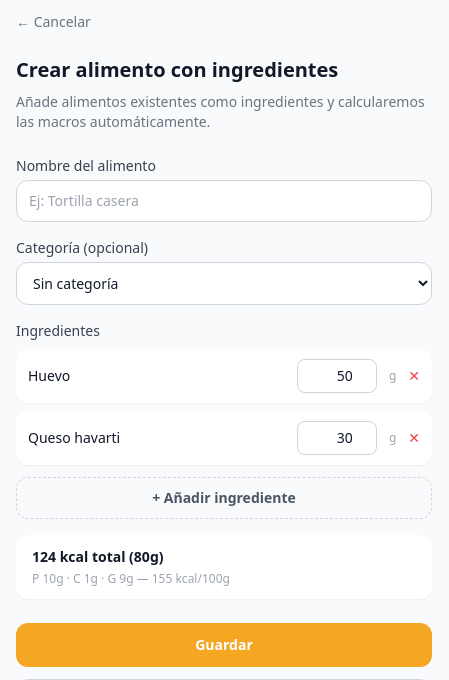
Test: IngredientsBuilderRoute › removing an ingredient recomputes the sum
Click the button labelled "✕" in the row of "Huevo" at (414, 376), box [408, 366, 420, 386]
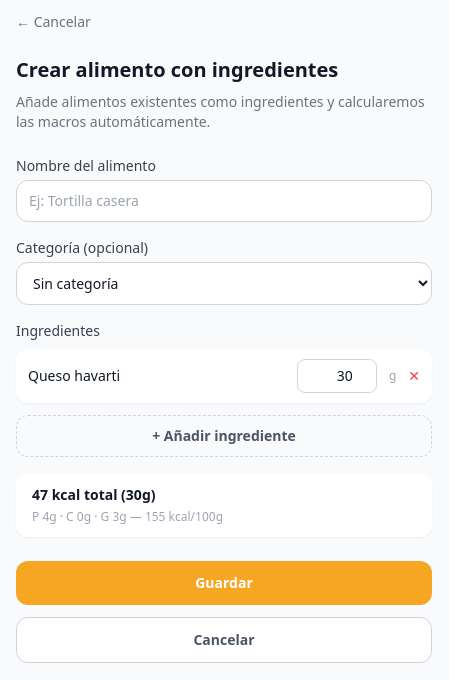
Expected: the text "Queso havarti" is shown, [28, 366, 120, 385]
Now the text "Huevo" is gone
